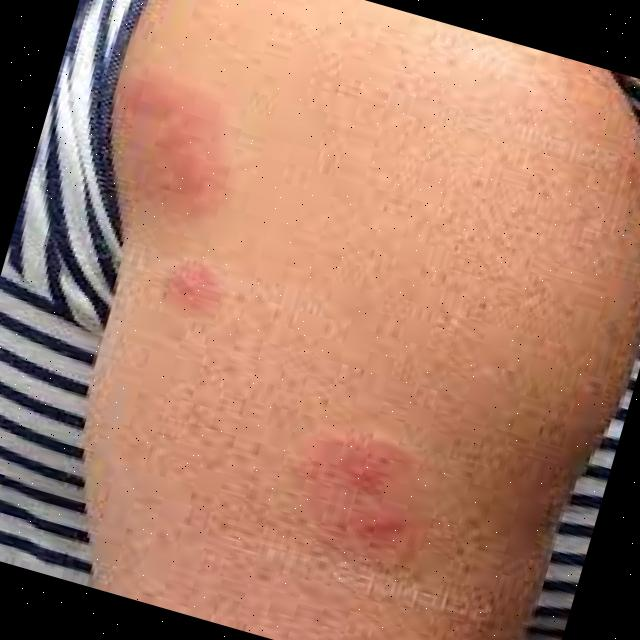kan emici bocekler: (267, 420, 451, 576), (140, 74, 254, 224), (141, 237, 248, 328)
